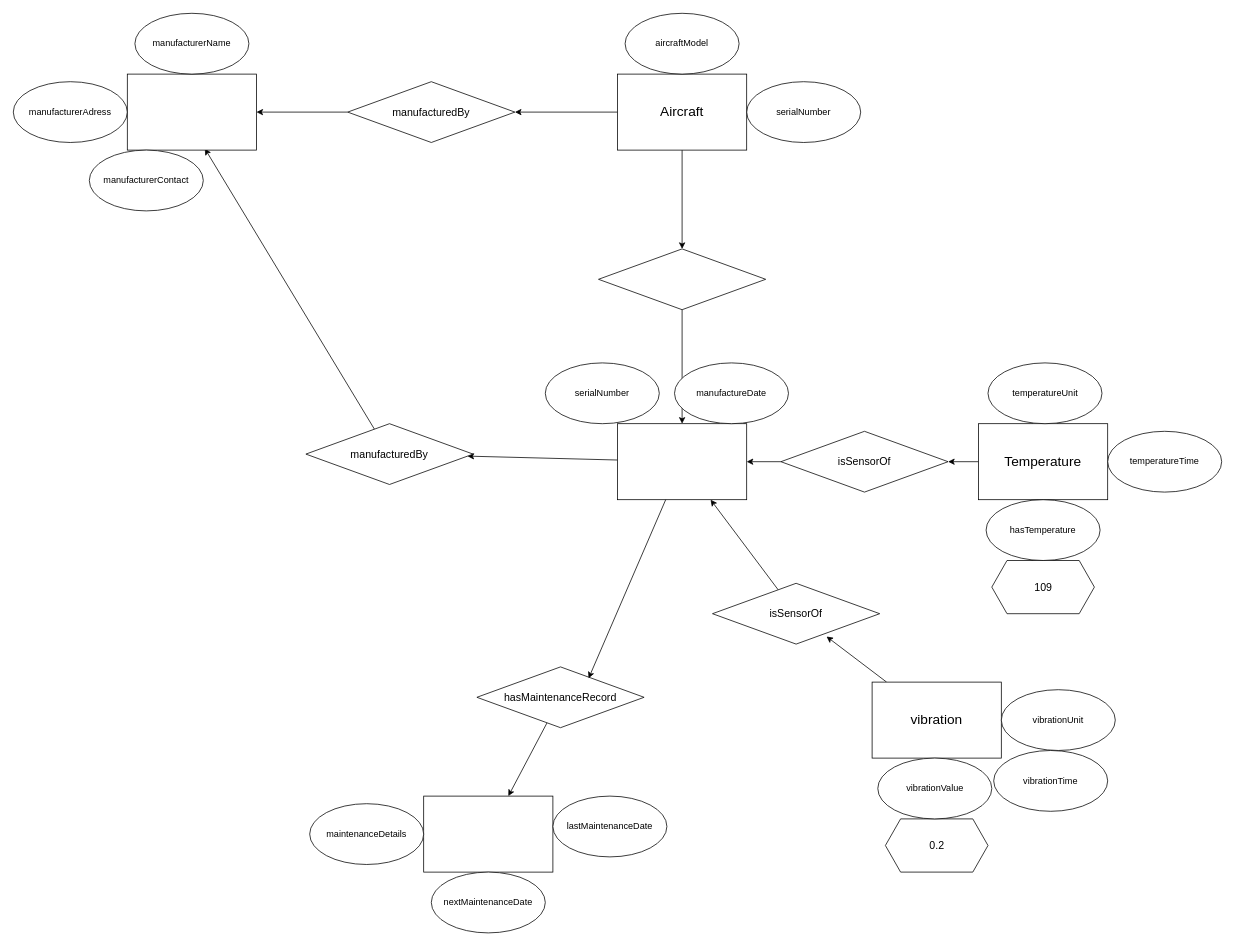
This 1235x946 diagram has some shape labels left out. Here are the shapes that lost their labels. From the top down, the centre of each, then its label:
At (191,111): "Manufacturer".
At (682,279): "hasEngine".
At (682,461): "Engine".
At (488,833): "Maintenance".
